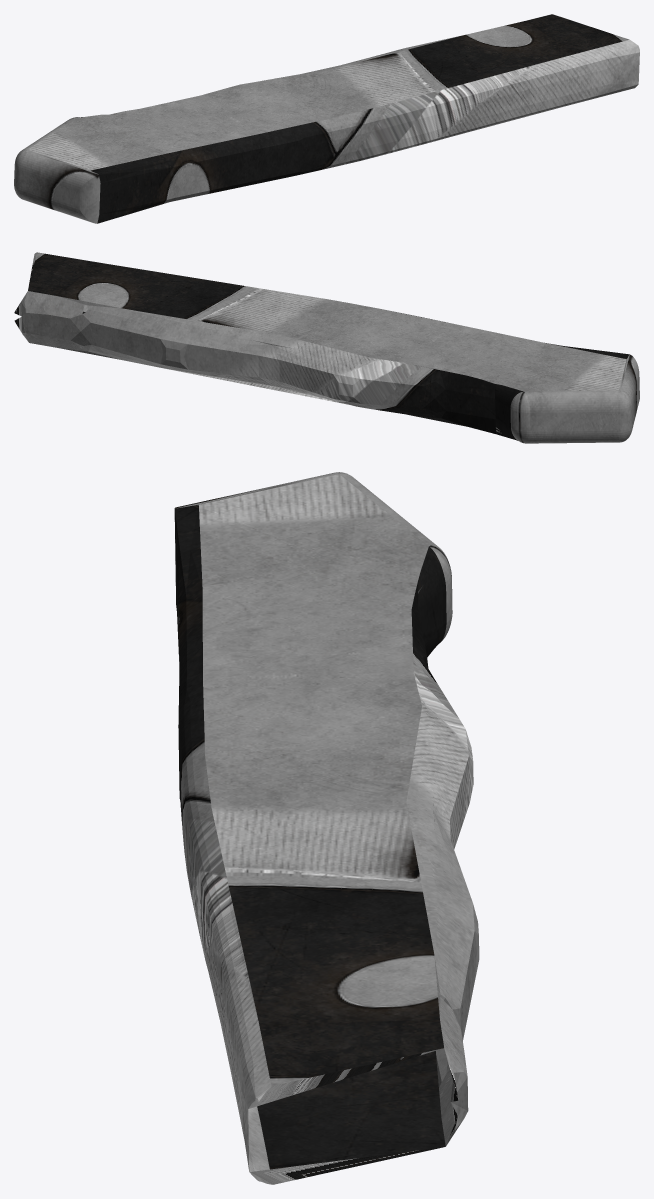
3 renders of one model, top to bottom at view 1: azimuth 30°, elevation 25°; view 2: azimuth 150°, elevation 25°; view 3: azimuth 270°, elevation 25°, orthographic. The views are drawn at different scales.
Size of the model in its own units: 0.3574 by 0.04 by 0.0783.
